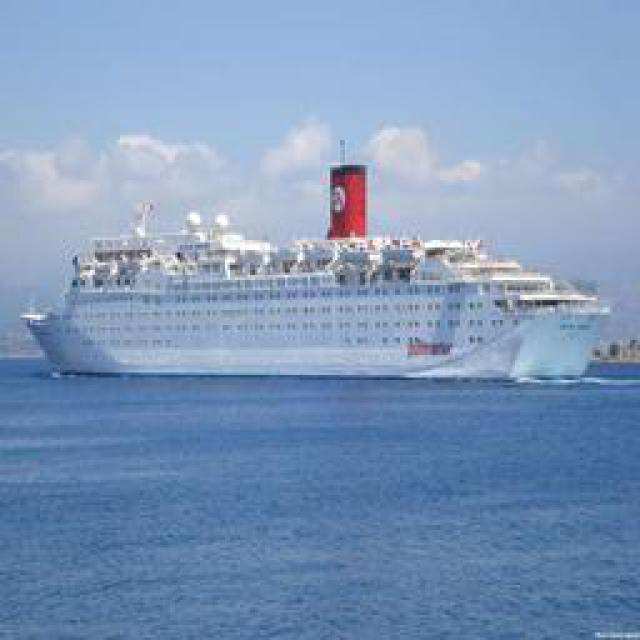Ship: (31, 203, 614, 381)
